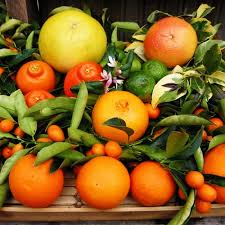orange: (12, 150, 63, 208), (75, 156, 131, 207), (92, 92, 150, 141), (128, 157, 176, 208)
